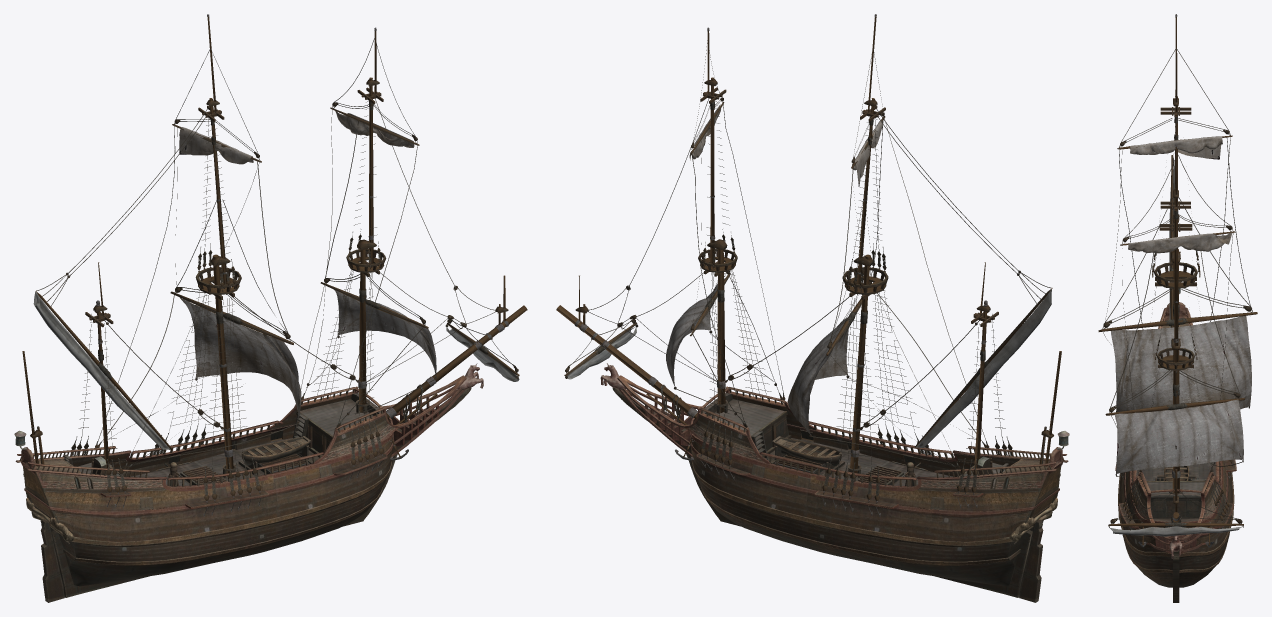
Rendered from dutch_ship_medium.glb.
3 views of the same model, side by side, from view 1: azimuth 30°, elevation 25°; view 2: azimuth 150°, elevation 25°; view 3: azimuth 270°, elevation 25° (orthographic). The views are drawn at different scales.
Parts seen in each view (by area): view 1: dutch_ship_medium_hull, dutch_ship_medium_rigging, dutch_ship_medium_sails; view 2: dutch_ship_medium_hull, dutch_ship_medium_rigging, dutch_ship_medium_sails; view 3: dutch_ship_medium_sails, dutch_ship_medium_rigging, dutch_ship_medium_hull.
Boxes of the visible parts, <box> form: dutch_ship_medium_hull: <box>14,363,483,602</box>; dutch_ship_medium_rigging: <box>22,14,527,516</box>; dutch_ship_medium_sails: <box>179,111,436,419</box>; dutch_ship_medium_hull: <box>600,363,1069,602</box>; dutch_ship_medium_rigging: <box>556,14,1061,516</box>; dutch_ship_medium_sails: <box>666,104,882,434</box>; dutch_ship_medium_sails: <box>1111,136,1251,473</box>; dutch_ship_medium_rigging: <box>1098,14,1257,547</box>; dutch_ship_medium_hull: <box>1115,288,1236,602</box>.
Bounding box in the file's own units: 24.08 × 24.66 × 6.81.
Materials: 3 (3 with a texture image).
